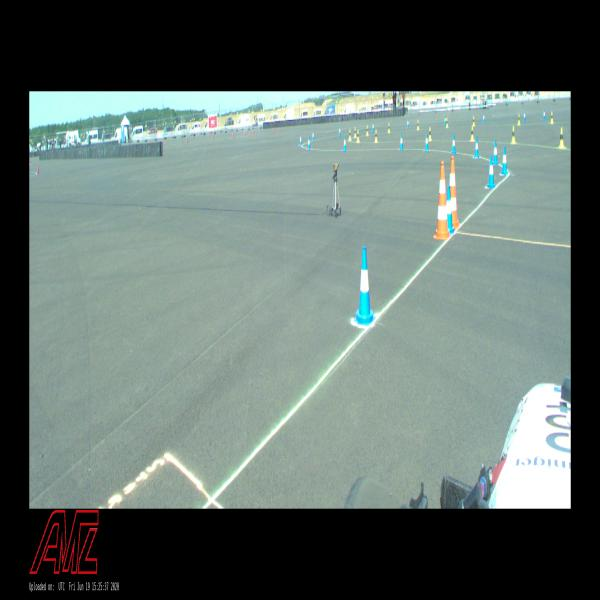blue_cone: (354, 247, 376, 326), (446, 186, 455, 234), (487, 156, 496, 188), (501, 147, 508, 175), (492, 140, 499, 164), (474, 136, 479, 158), (452, 134, 456, 153), (425, 133, 429, 151), (400, 133, 404, 150), (343, 136, 347, 151), (299, 134, 302, 146), (523, 111, 526, 121), (338, 126, 341, 136), (308, 136, 310, 150), (543, 110, 545, 120), (312, 131, 314, 141), (482, 113, 484, 122), (407, 119, 409, 128), (444, 116, 446, 125), (372, 123, 374, 131)
large_orange_cone: (433, 161, 451, 240), (449, 156, 461, 229)
yellow_cone: (559, 128, 565, 148), (511, 126, 516, 143), (470, 126, 474, 141), (428, 127, 432, 140), (550, 112, 554, 123), (375, 129, 378, 142), (357, 130, 360, 142), (366, 125, 369, 135), (472, 116, 475, 126), (349, 129, 351, 140), (354, 127, 356, 138), (518, 114, 520, 124), (417, 120, 419, 130), (388, 122, 390, 132), (446, 118, 448, 128)
